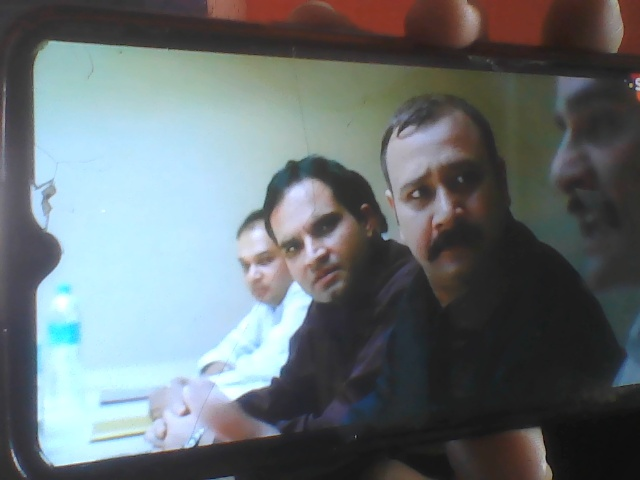fake: (380, 84, 530, 296), (254, 146, 381, 326)
